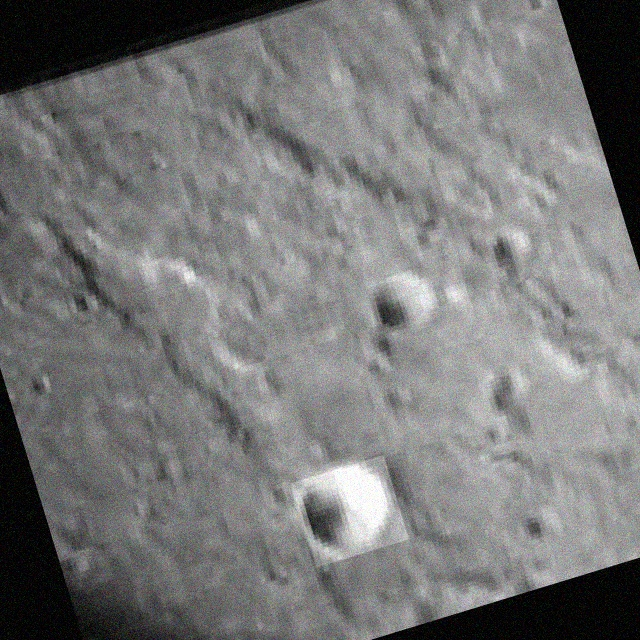crater: (291, 454, 408, 566), (364, 271, 439, 345)
